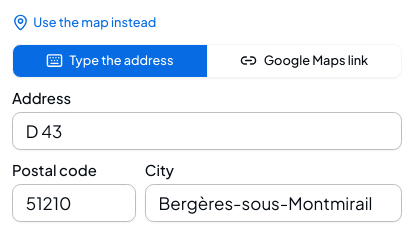
LocationPickerField — manual entry › shows only the link field until the link resolves
This screenshot has width=414, height=239.
Click the radio button labelled "Google Maps link" at [305, 61], box [208,44,402,78]
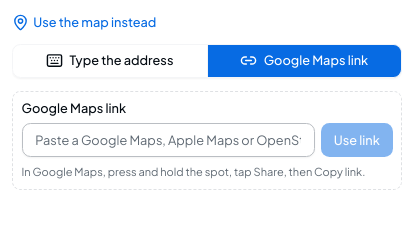
Now the field labelled "Google Maps link" is shown, box [22,123,314,157]
Now the text "press and hold the spot" is shown, box [22,165,365,178]
